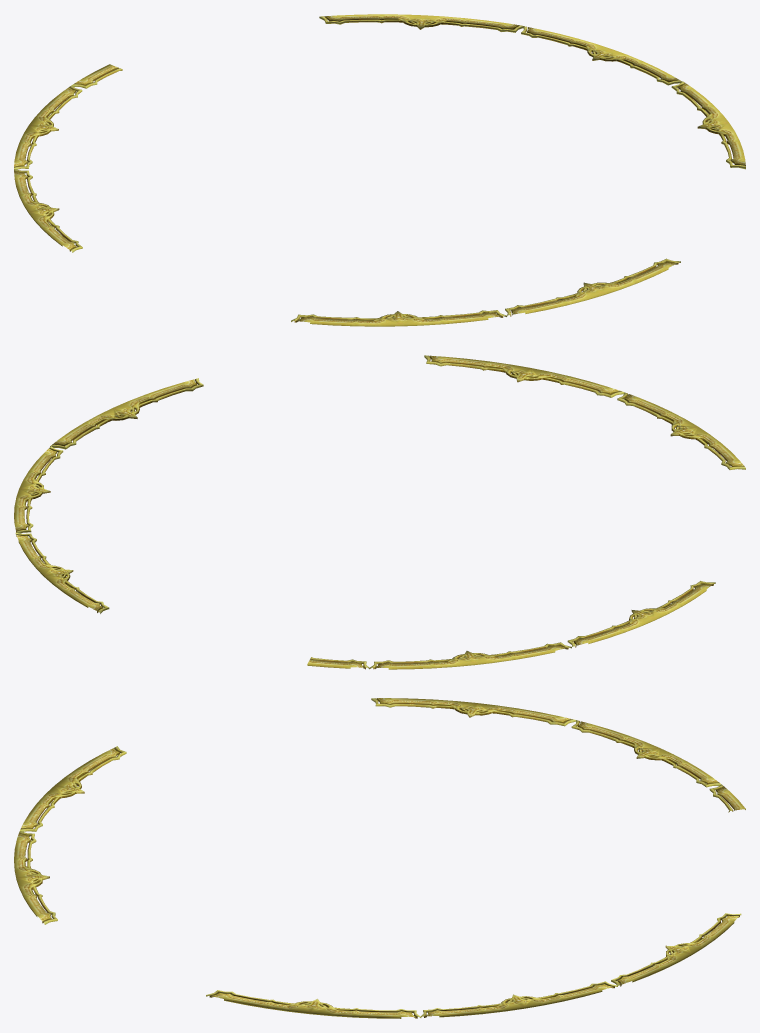
The model's file is S_Build_City020.FBX.
The picture shows the model from 3 angles, top to bottom: view 1: azimuth 30°, elevation 25°; view 2: azimuth 150°, elevation 25°; view 3: azimuth 270°, elevation 25°; orthographic projection. The views are drawn at different scales.
Parts seen in each view (by area): view 1: S_Build_City020; view 2: S_Build_City020; view 3: S_Build_City020.
Part boxes in pixels (box(x1,y1,x2,y2)): S_Build_City020: box(14, 14, 745, 326); S_Build_City020: box(14, 355, 745, 669); S_Build_City020: box(14, 698, 745, 1018).
Size of the model in its own units: 8620 by 53.47 by 8419.
Materials: 1 (1 with a texture image).
